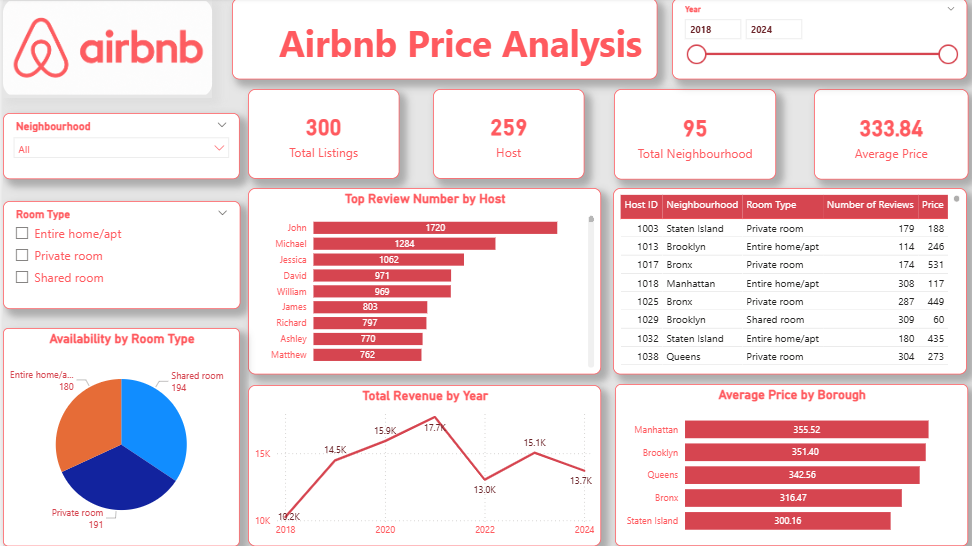

The page's visual inventory and layout, read from the dashboard file:
{"tool":"powerbi","page":{"name":"Page 1","canvas":[1280,720],"ordinal":0},"visuals":[{"type":"image","box":[0,0,275.5,131],"z":0},{"type":"slicer","fields":{"Values":["Airbnb_Price_Analysis_Dataset.neighbourhood_group"]},"box":[0,151.2,310.8,87.3],"z":1000},{"type":"slicer","fields":{"Values":["Airbnb_Price_Analysis_Dataset.room_type"]},"box":[0,266.4,311.5,142.4],"z":2000},{"type":"textbox","box":[301.4,0,558.8,107.4],"z":3000},{"type":"card","fields":{"Values":["Airbnb_Price_Analysis_Dataset.Total Listings"]},"box":[321.4,119.8,198.8,118.4],"z":4000},{"type":"card","fields":{"Values":["Airbnb_Price_Analysis_Dataset.Host"]},"box":[565.3,119.8,198.8,118.4],"z":5000},{"type":"card","fields":{"Values":["Airbnb_Price_Analysis_Dataset.Total Neighbourhood"]},"box":[802.9,119.3,213.3,119.3],"z":6000},{"type":"card","fields":{"Values":["Airbnb_Price_Analysis_Dataset.Average Price"]},"box":[1065,119.3,203.3,119.3],"z":7000},{"type":"clusteredBarChart","title":"Top Review Number by Host","fields":{"Category":["Airbnb_Price_Analysis_Dataset.host_name"],"Y":["Sum(Airbnb_Price_Analysis_Dataset.number_of_reviews)"]},"box":[321.4,249.5,463.8,245.3],"z":8000},{"type":"tableEx","fields":{"Values":["Airbnb_Price_Analysis_Dataset.host_id","Airbnb_Price_Analysis_Dataset.neighbourhood_group","Airbnb_Price_Analysis_Dataset.room_type","Airbnb_Price_Analysis_Dataset.number_of_reviews","Airbnb_Price_Analysis_Dataset.price"]},"box":[802.1,249.5,465.2,245.3],"z":9000},{"type":"pieChart","title":"Availability by Room Type","fields":{"Category":["Airbnb_Price_Analysis_Dataset.room_type"],"Y":["Avg(Airbnb_Price_Analysis_Dataset.availability_365)"]},"box":[0,433.4,310.8,287.2],"z":10000},{"type":"clusteredBarChart","title":"Average Price by Borough","fields":{"Category":["Airbnb_Price_Analysis_Dataset.neighbourhood_group"],"Y":["Avg(Airbnb_Price_Analysis_Dataset.price)"]},"box":[804.6,507.3,463.6,213.3],"z":11000},{"type":"lineChart","fields":{"Category":["Airbnb_Price_Analysis_Dataset.Year"],"Y":["Airbnb_Price_Analysis_Dataset.Total Revenue"]},"box":[322.1,507.9,463.8,212],"z":12000},{"type":"slicer","fields":{"Values":["Airbnb_Price_Analysis_Dataset.Year"]},"box":[879.5,0,388.1,107.4],"z":13000}]}

Visuals, with their boxes in screenshot pixels (x1, y1, x2, y2), scaled from the page's 1280x720 canvas onto the 972x546 screenshot:
image: x1=0, y1=0, x2=209, y2=99
slicer - Airbnb_Price_Analysis_Dataset.neighbourhood_group: x1=0, y1=115, x2=236, y2=181
slicer - Airbnb_Price_Analysis_Dataset.room_type: x1=0, y1=202, x2=237, y2=310
textbox: x1=229, y1=0, x2=653, y2=81
card - Airbnb_Price_Analysis_Dataset.Total Listings: x1=244, y1=91, x2=395, y2=181
card - Airbnb_Price_Analysis_Dataset.Host: x1=429, y1=91, x2=580, y2=181
card - Airbnb_Price_Analysis_Dataset.Total Neighbourhood: x1=610, y1=90, x2=772, y2=181
card - Airbnb_Price_Analysis_Dataset.Average Price: x1=809, y1=90, x2=963, y2=181
"Top Review Number by Host" clusteredBarChart: x1=244, y1=189, x2=596, y2=375
tableEx - Airbnb_Price_Analysis_Dataset.host_id x Airbnb_Price_Analysis_Dataset.neighbourhood_group: x1=609, y1=189, x2=962, y2=375
"Availability by Room Type" pieChart: x1=0, y1=329, x2=236, y2=545
"Average Price by Borough" clusteredBarChart: x1=611, y1=385, x2=963, y2=545
lineChart - Airbnb_Price_Analysis_Dataset.Year x Airbnb_Price_Analysis_Dataset.Total Revenue: x1=245, y1=385, x2=597, y2=545
slicer - Airbnb_Price_Analysis_Dataset.Year: x1=668, y1=0, x2=963, y2=81
